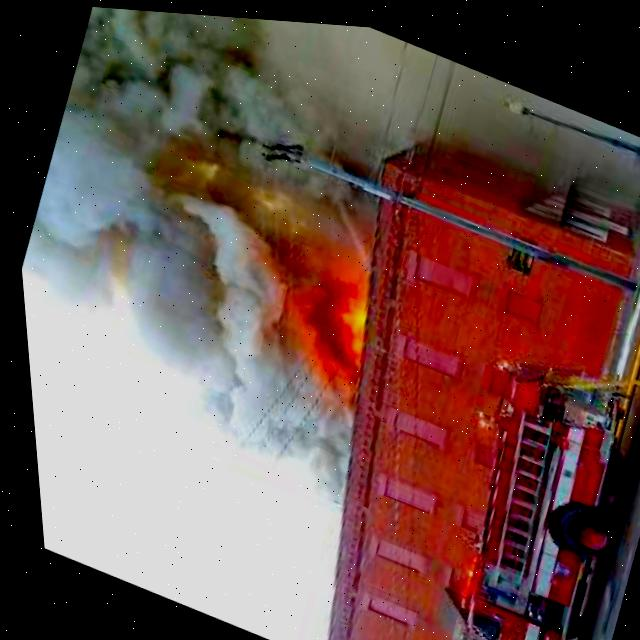Fire: (313, 261, 379, 355)
Smoke: (0, 0, 483, 499)
